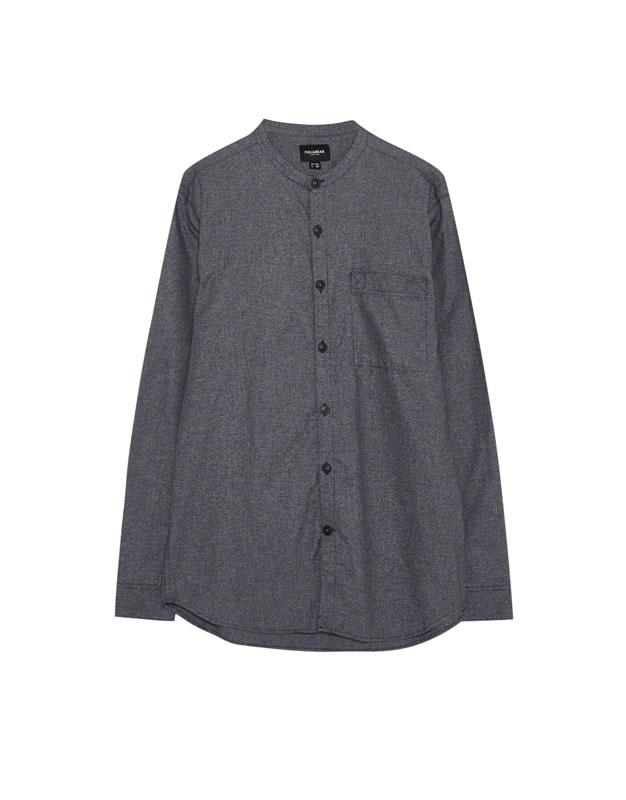teeshirt: (111, 108, 535, 655)
